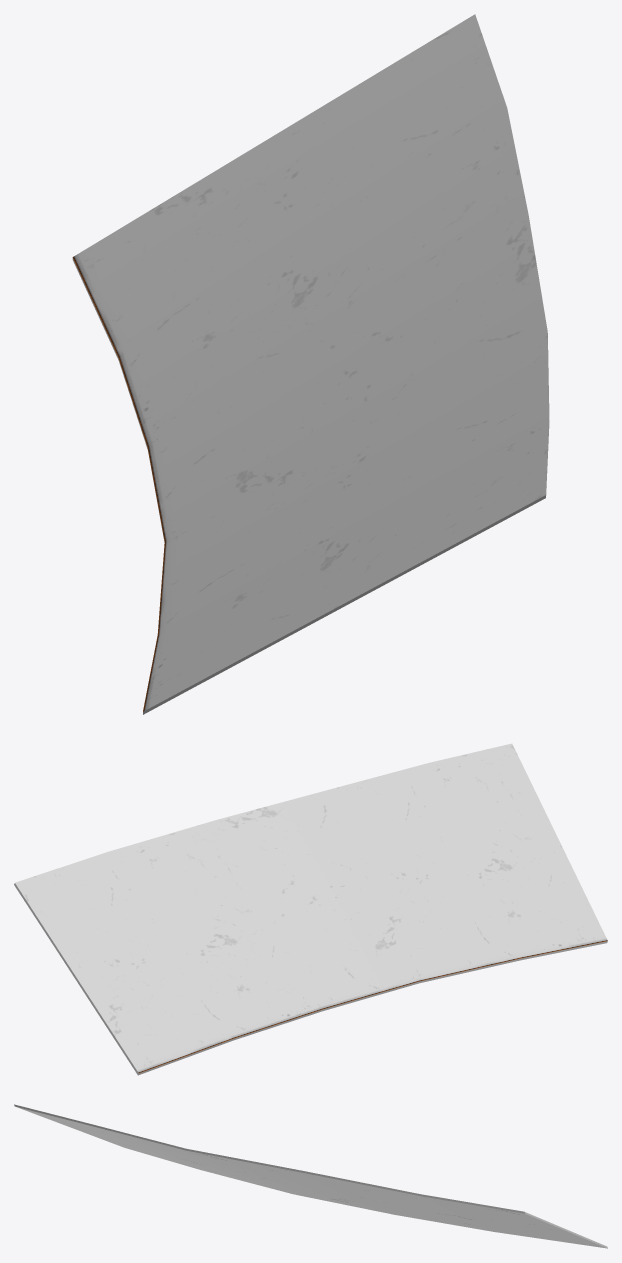
File: LabRoof_2.fbx
The picture shows the model from 3 angles, top to bottom: view 1: azimuth 30°, elevation 25°; view 2: azimuth 150°, elevation 25°; view 3: azimuth 270°, elevation 25°; orthographic projection. The views are drawn at different scales.
Parts seen in each view (by area): view 1: Lab_2; view 2: Lab_2; view 3: Lab_2.
Part boxes in pixels (bbox=[...]): Lab_2: bbox=[72, 14, 549, 714]; Lab_2: bbox=[14, 743, 607, 1075]; Lab_2: bbox=[14, 1104, 607, 1248].
Size of the model in its own units: 20.96 by 6.26 by 29.39.
